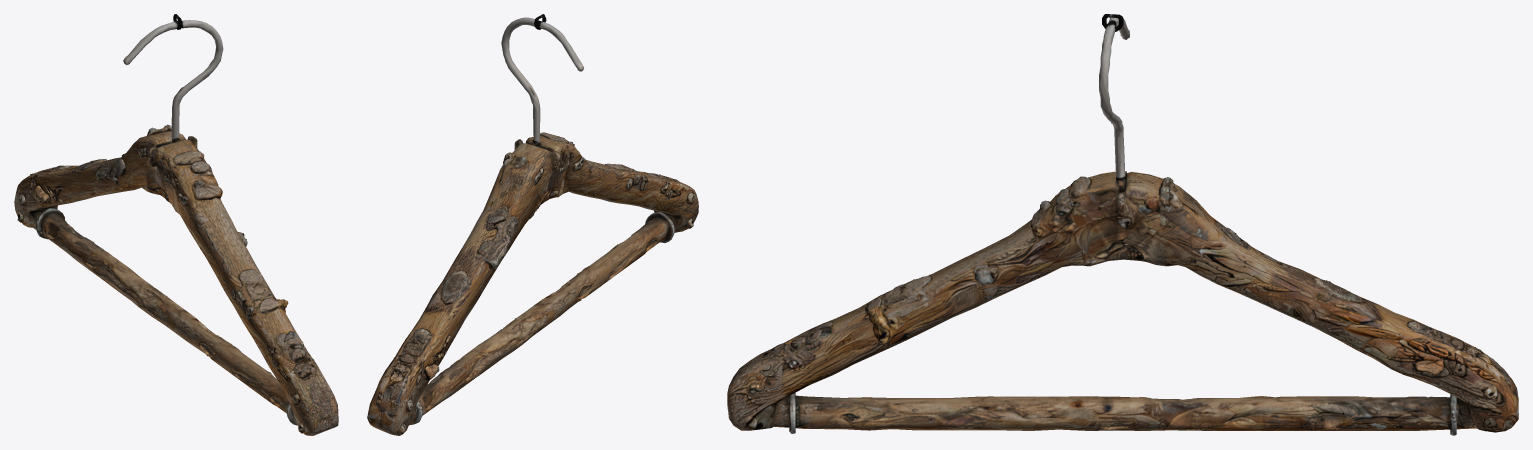
The picture shows the model from 3 angles, left to right: view 1: azimuth 30°, elevation 25°; view 2: azimuth 150°, elevation 25°; view 3: azimuth 270°, elevation 25°; orthographic projection. The views are drawn at different scales.
Visible parts, largest first — view 1: tripo_node_8b124dd8-a110-4b30-98b9-909a554d1805; view 2: tripo_node_8b124dd8-a110-4b30-98b9-909a554d1805; view 3: tripo_node_8b124dd8-a110-4b30-98b9-909a554d1805.
Boxes of the visible parts, <box> form: tripo_node_8b124dd8-a110-4b30-98b9-909a554d1805: <box>14,14,338,435</box>; tripo_node_8b124dd8-a110-4b30-98b9-909a554d1805: <box>367,14,698,435</box>; tripo_node_8b124dd8-a110-4b30-98b9-909a554d1805: <box>727,14,1518,435</box>.
Size of the model in its own units: 0.1699 by 0.5801 by 0.998.
Materials: 1 (1 with a texture image).
